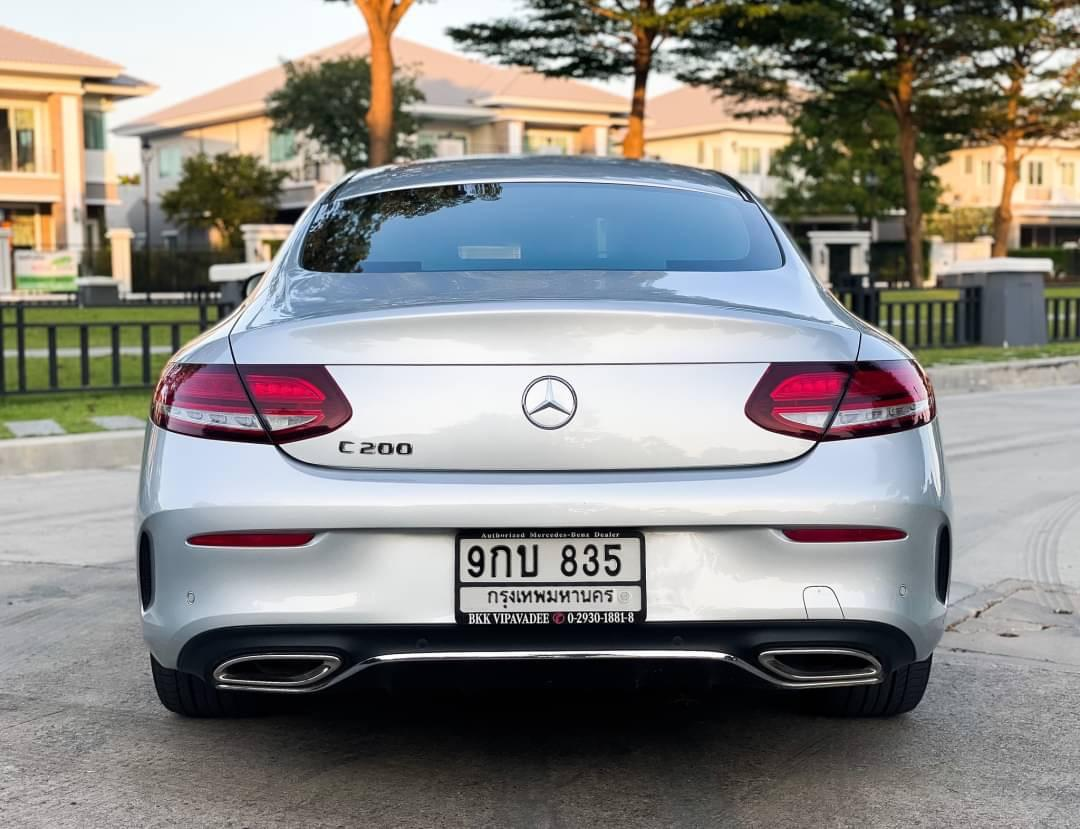license-plate: (453, 526, 649, 627)
